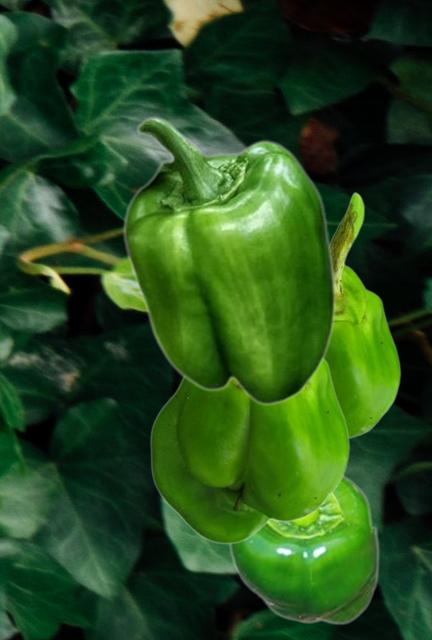bell_pepper: (122, 116, 336, 405), (149, 359, 349, 543), (226, 473, 379, 624), (327, 191, 400, 439)
